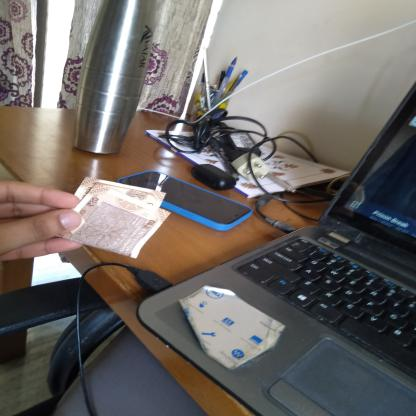New10Back: (65, 181, 150, 260)
